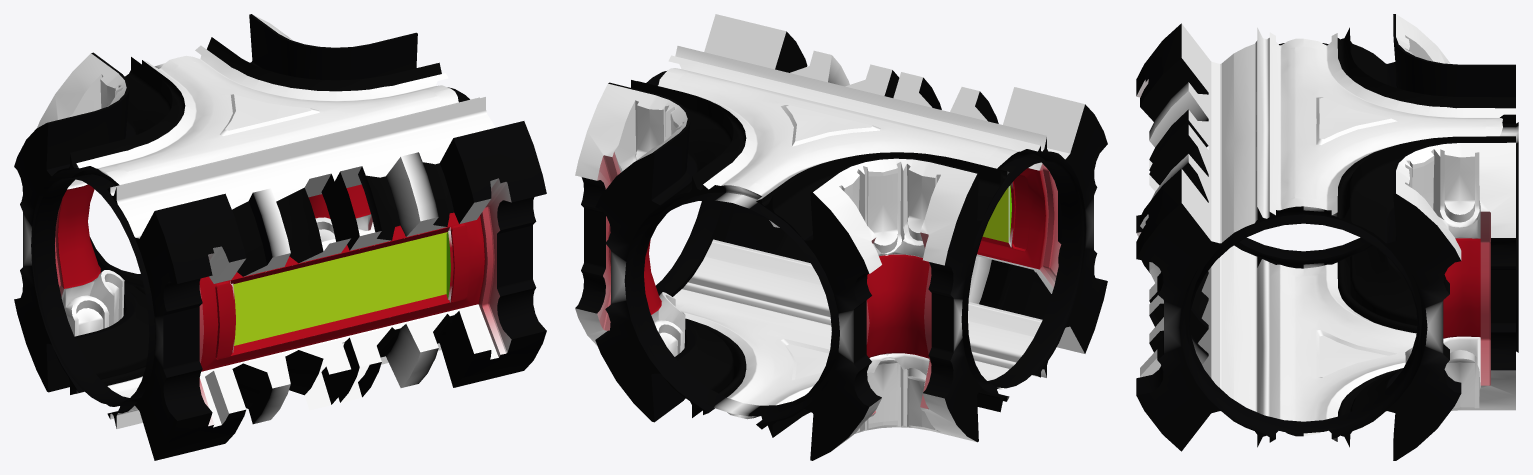
File: part_main-lod0.dae
3 renders of one model, left to right at view 1: azimuth 30°, elevation 25°; view 2: azimuth 150°, elevation 25°; view 3: azimuth 270°, elevation 25°, orthographic.
Visible parts, largest first — view 1: part_main-lod0Xlod0Xp2genericXgen_p2_hulltextureaged_02, part_main-lod0Xlod0Xp2genericXgen_p2_hullpattern_01, part_main-lod0Xlod0Xp2genericXgen_p2_hulltexture_02_c, part_main-lod0Xlod0Xp2multimatXp2_multimat_01; view 2: part_main-lod0Xlod0Xp2genericXgen_p2_hulltextureaged_02, part_main-lod0Xlod0Xp2genericXgen_p2_hullpattern_01, part_main-lod0Xlod0Xp2genericXgen_p2_hulltexture_02_c, part_main-lod0Xlod0Xp2multimatXp2_multimat_01; view 3: part_main-lod0Xlod0Xp2genericXgen_p2_hulltextureaged_02, part_main-lod0Xlod0Xp2genericXgen_p2_hullpattern_01, part_main-lod0Xlod0Xp2genericXgen_p2_hulltexture_02_c, part_main-lod0Xlod0Xp2multimatXp2_multimat_01.
Boxes of the visible parts, x1,y1,x2,y2 form: part_main-lod0Xlod0Xp2genericXgen_p2_hulltextureaged_02: (14, 14, 546, 427); part_main-lod0Xlod0Xp2genericXgen_p2_hullpattern_01: (14, 15, 546, 460); part_main-lod0Xlod0Xp2genericXgen_p2_hulltexture_02_c: (64, 55, 495, 428); part_main-lod0Xlod0Xp2multimatXp2_multimat_01: (60, 166, 483, 423); part_main-lod0Xlod0Xp2genericXgen_p2_hulltextureaged_02: (575, 46, 1106, 432); part_main-lod0Xlod0Xp2genericXgen_p2_hullpattern_01: (575, 14, 1107, 460); part_main-lod0Xlod0Xp2genericXgen_p2_hulltexture_02_c: (631, 68, 1052, 437); part_main-lod0Xlod0Xp2multimatXp2_multimat_01: (644, 91, 1044, 356); part_main-lod0Xlod0Xp2genericXgen_p2_hulltextureaged_02: (1136, 14, 1518, 456); part_main-lod0Xlod0Xp2genericXgen_p2_hullpattern_01: (1136, 14, 1515, 460); part_main-lod0Xlod0Xp2genericXgen_p2_hulltexture_02_c: (1224, 38, 1515, 438); part_main-lod0Xlod0Xp2multimatXp2_multimat_01: (1149, 109, 1477, 352).
Bounding box in the file's own units: 32.39 × 22.22 × 28.8.
